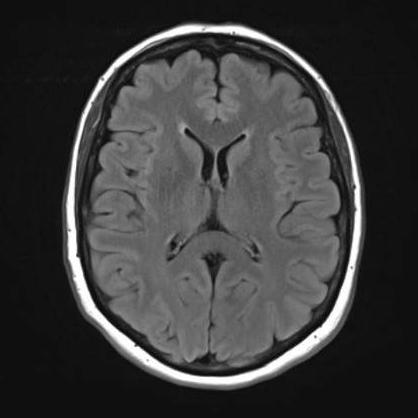Normal_Brain: (1, 1, 418, 418)
